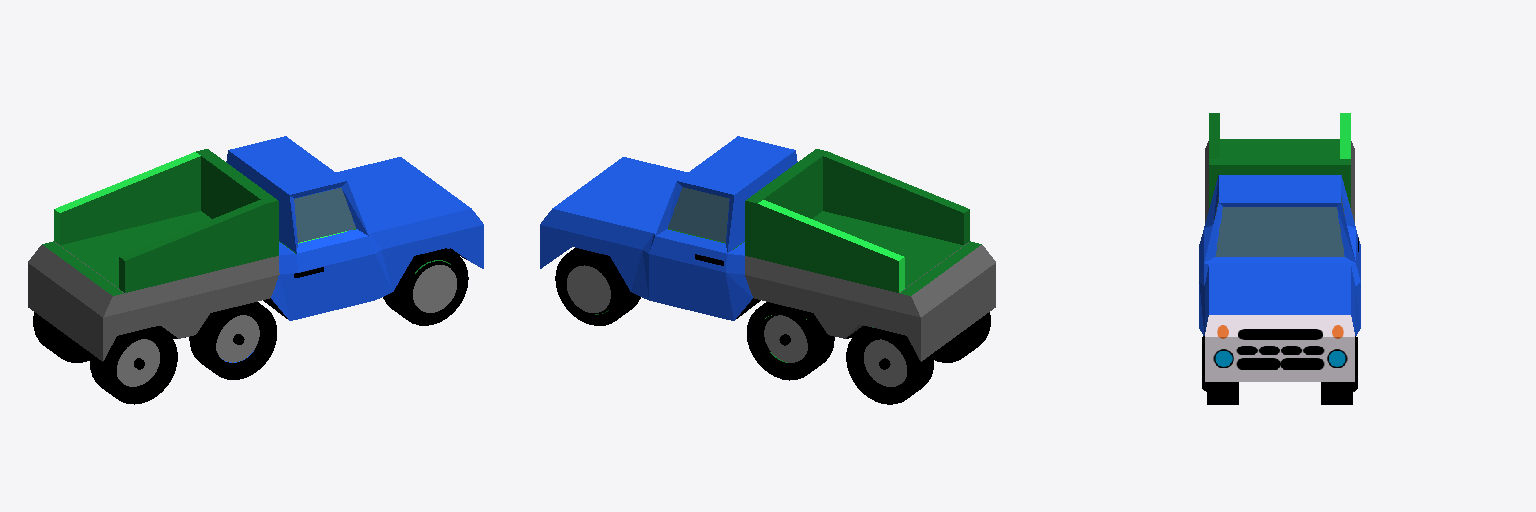
3 views of the same model, side by side, from view 1: azimuth 30°, elevation 25°; view 2: azimuth 150°, elevation 25°; view 3: azimuth 270°, elevation 25° (orthographic).
Visible parts, largest first — view 1: MiddleRightWheel_Cube.009; view 2: MiddleRightWheel_Cube.009; view 3: MiddleRightWheel_Cube.009.
Boxes of the visible parts, x1,y1,x2,y2 form: MiddleRightWheel_Cube.009: [28, 136, 483, 404]; MiddleRightWheel_Cube.009: [540, 136, 995, 404]; MiddleRightWheel_Cube.009: [1199, 113, 1360, 404].
Bounding box in the file's own units: 10.57 × 4.47 × 3.87.
Materials: 1 (1 with a texture image).